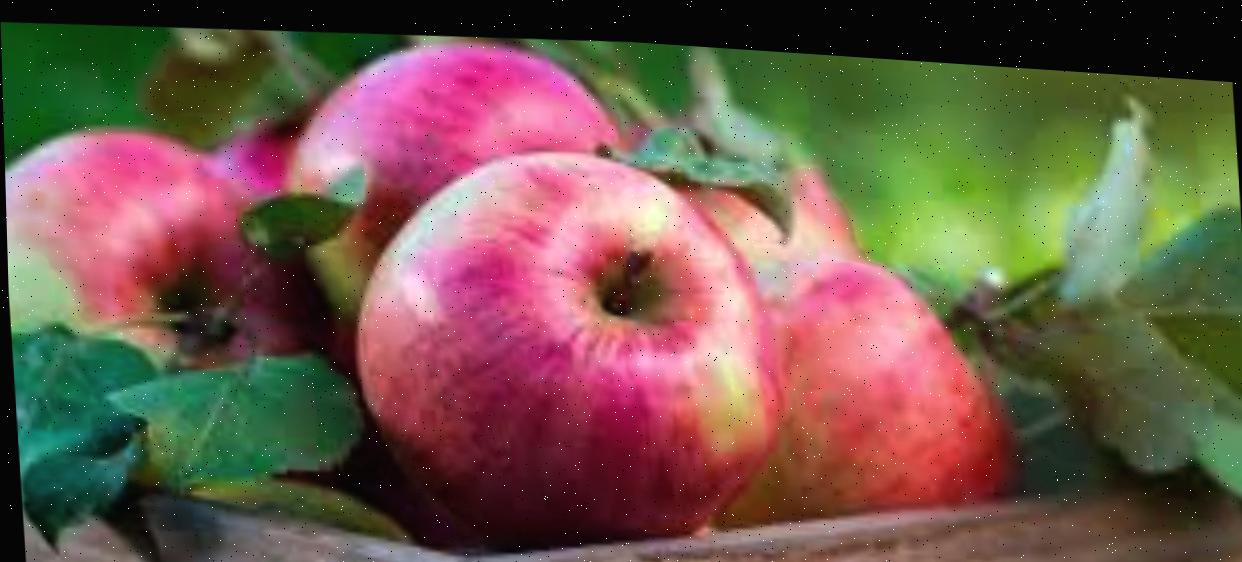HEALTHY: (302, 79, 834, 562)
